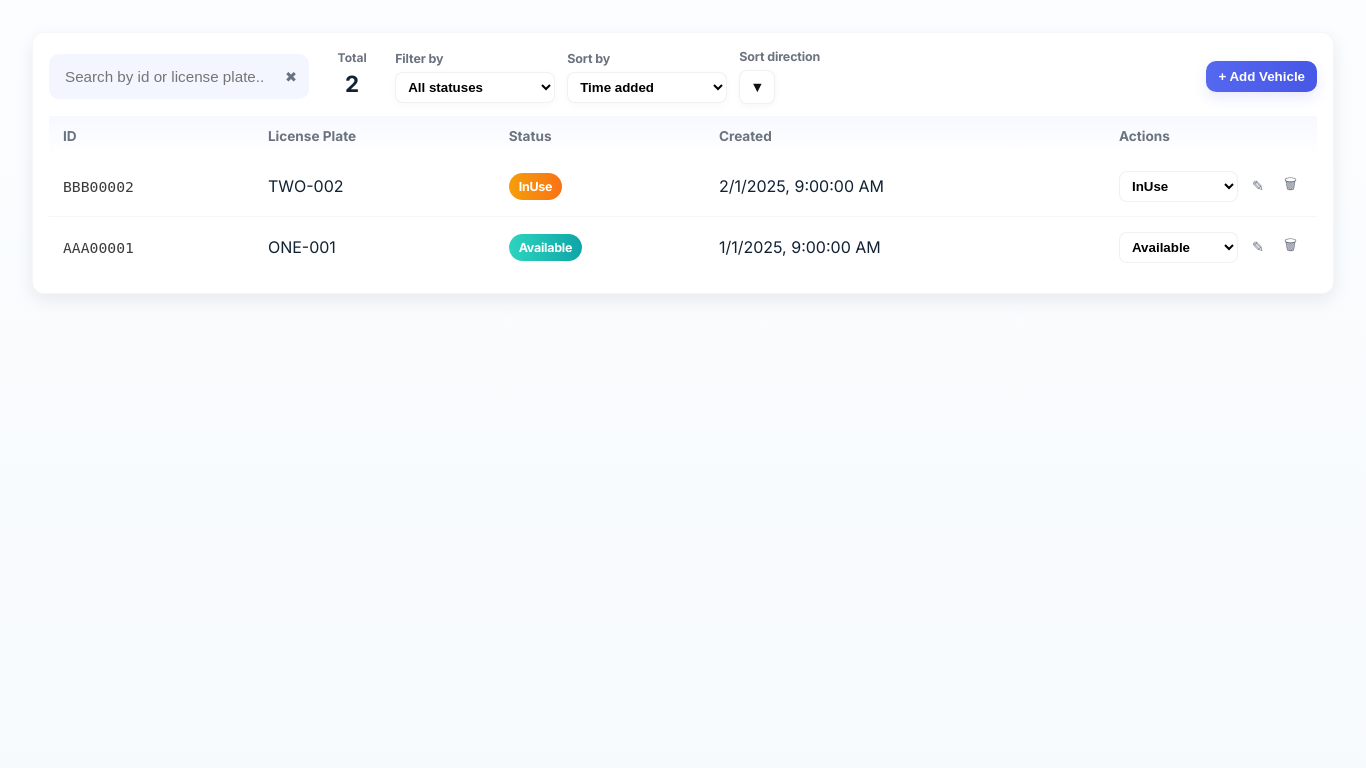
Test: VehicleTable — more advanced flows › edit flow: change id and license and reflect in table
This screenshot has width=1366, height=768.
Expected: the text "AAA00001" is shown, [49,216,254,277]
Click the button titled "edit vehicle" in the row of "BBB00002" at (1258, 186), box [1246,172,1270,200]
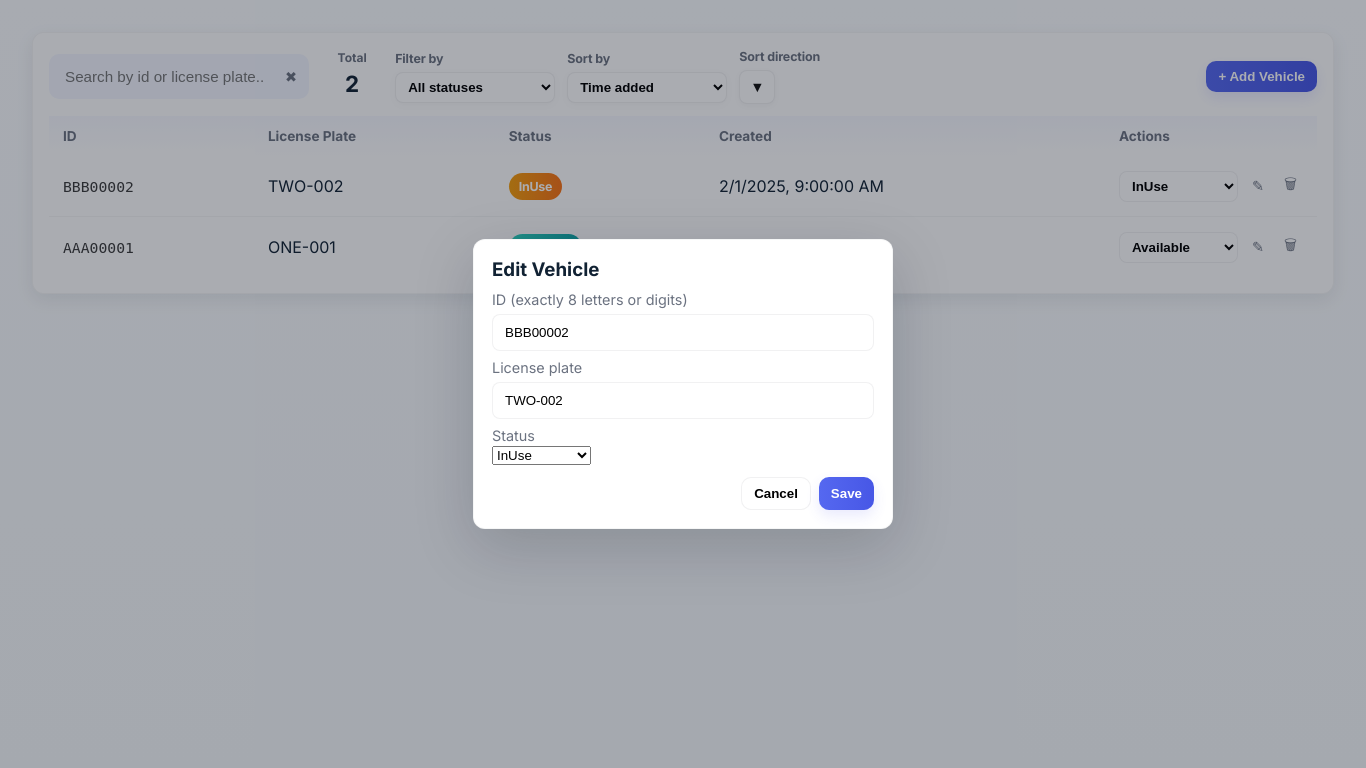
Note: change id and license
Replace the text in the 1st field with placeholder "8 chars, letters and digits" with "ZZZ99999" at (683, 332), box [492,314,874,351]
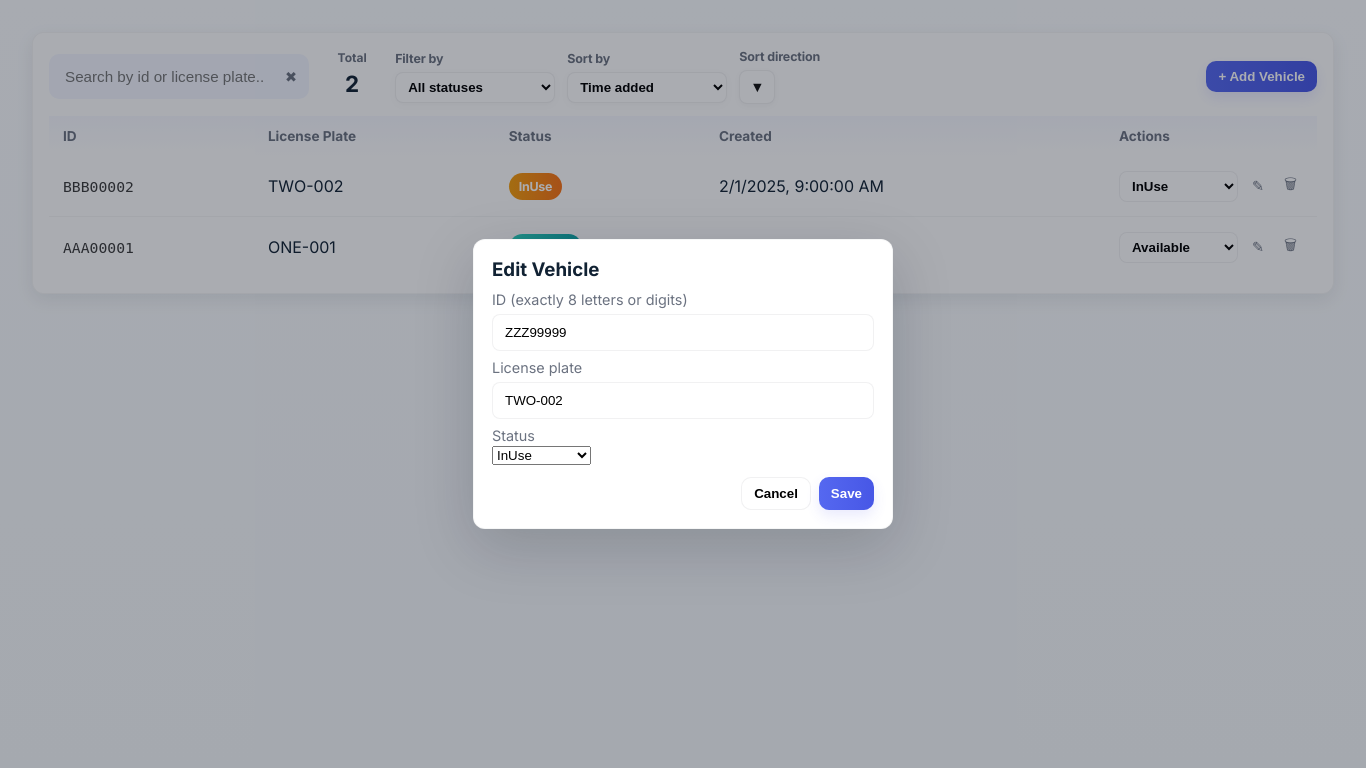
Replace the text in the 2nd field with placeholder "CAPS letters, digits, and '-' only" with "CHG-111" at (683, 400), box [492,382,874,419]
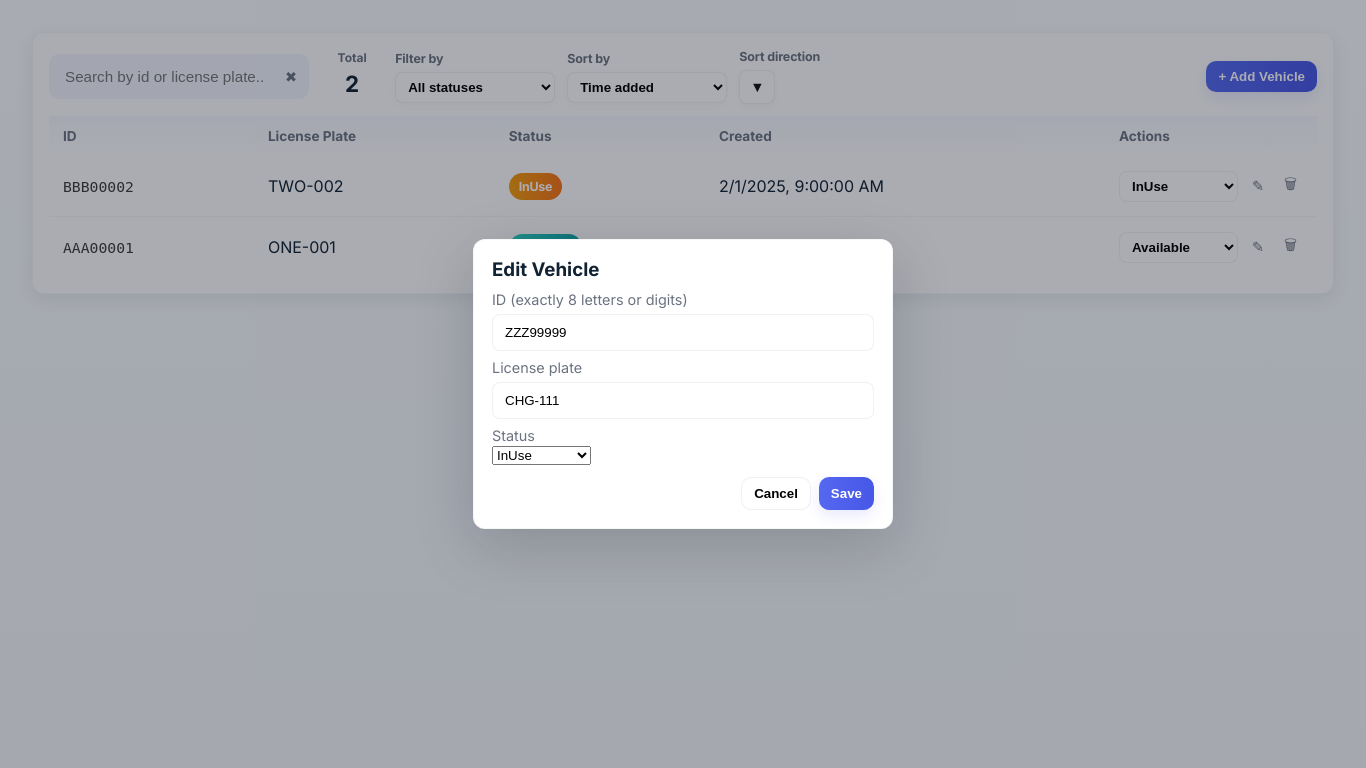
Click the button "Save" at (846, 494), box [819,477,874,510]
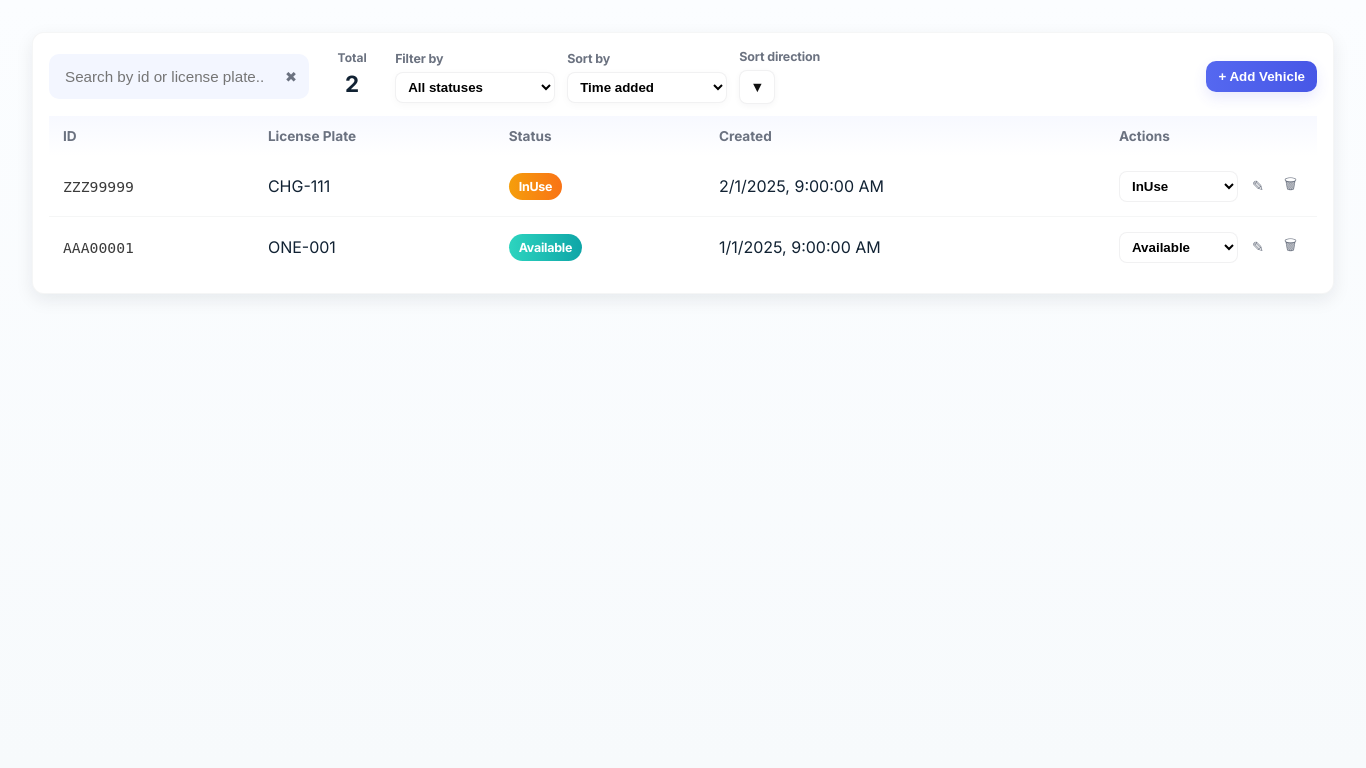
Expected: the text "ZZZ99999" is shown, [49,156,254,216]
Expected: the text "CHG-111" is shown, [254,156,495,216]
